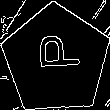P_W: (30, 40, 82, 80)
